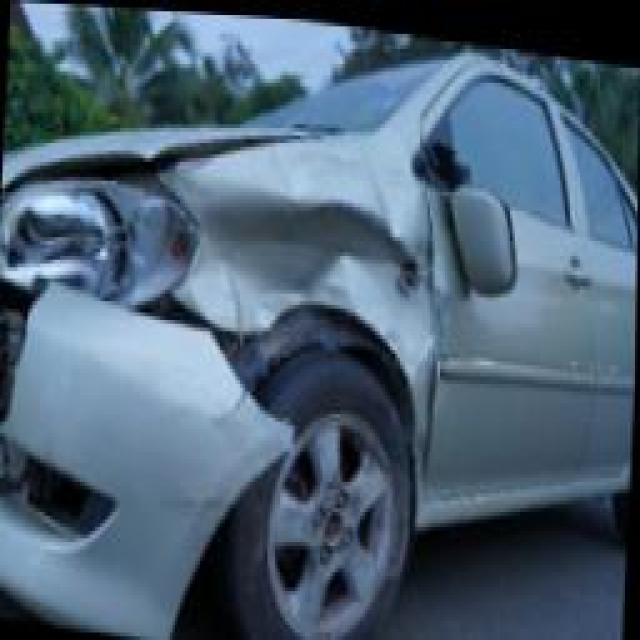Bumper: (0, 290, 284, 640)
Fender: (185, 136, 438, 378)
Light: (2, 154, 192, 311)
